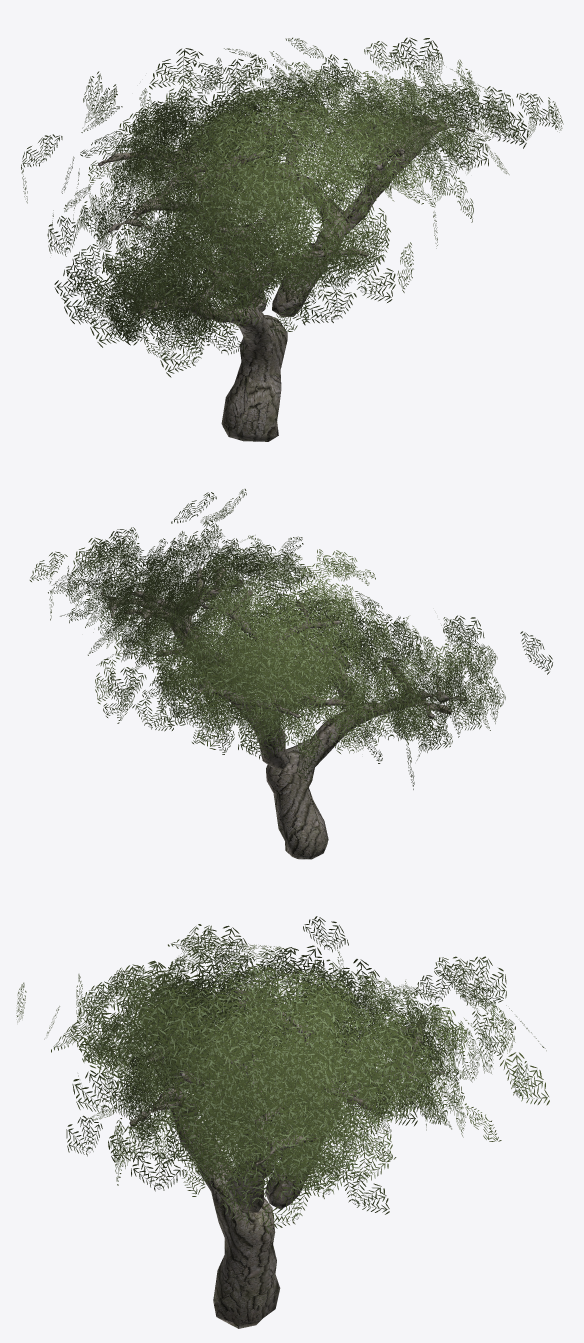
Rendered from olive_tree.glb.
3 views of the same model, one above another, from view 1: azimuth 30°, elevation 25°; view 2: azimuth 150°, elevation 25°; view 3: azimuth 270°, elevation 25° (orthographic). The views are drawn at different scales.
Visible parts, largest first — view 1: olive_leaves, olive_trunk; view 2: olive_leaves, olive_trunk; view 3: olive_leaves, olive_trunk.
Boxes of the visible parts, box(x1,y1,x2,y2) form: olive_leaves: box(21, 37, 563, 377); olive_trunk: box(98, 109, 474, 441); olive_leaves: box(29, 489, 552, 789); olive_trunk: box(100, 567, 466, 859); olive_leaves: box(16, 916, 549, 1233); olive_trunk: box(129, 989, 445, 1328).
Size of the model in its own units: 10.34 by 7.11 by 8.34.
Materials: 2 (2 with a texture image).
